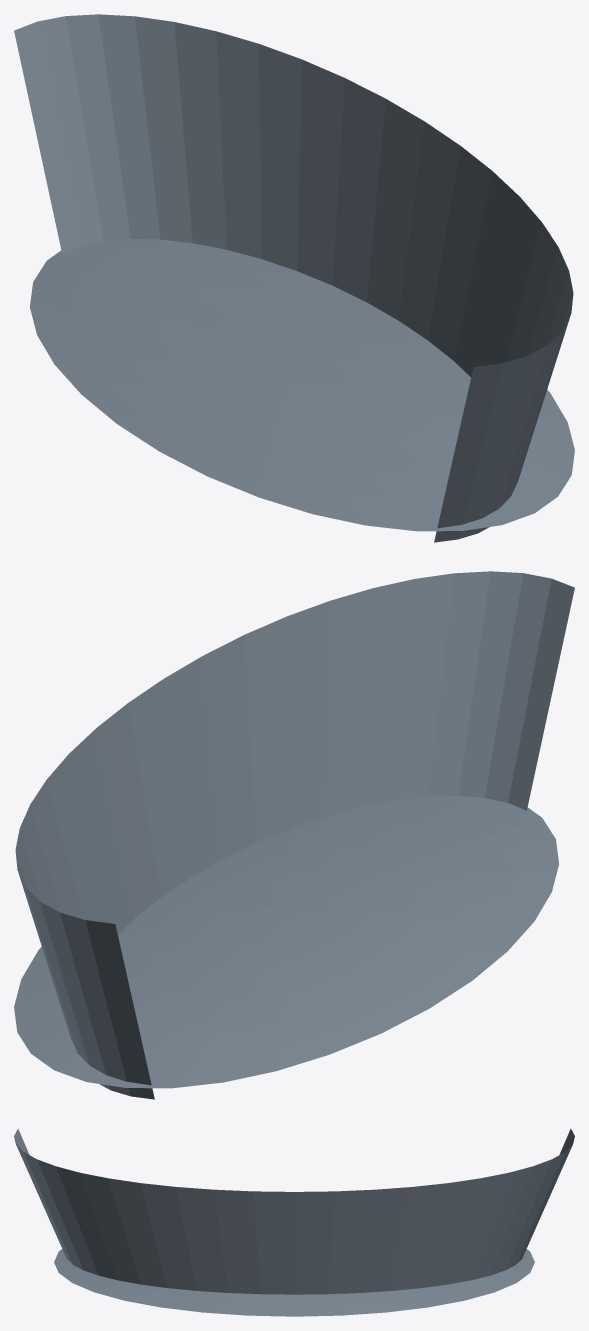
File: SM_Env_S_WaterfallFoam.fbx
The picture shows the model from 3 angles, top to bottom: view 1: azimuth 30°, elevation 25°; view 2: azimuth 150°, elevation 25°; view 3: azimuth 270°, elevation 25°; orthographic projection. The views are drawn at different scales.
Parts seen in each view (by area): view 1: SM_Env_S_WaterfallFoam; view 2: SM_Env_S_WaterfallFoam; view 3: SM_Env_S_WaterfallFoam.
Part boxes in pixels (box(x1,y1,x2,y2)): SM_Env_S_WaterfallFoam: box(14, 14, 574, 542); SM_Env_S_WaterfallFoam: box(14, 571, 574, 1099); SM_Env_S_WaterfallFoam: box(14, 1128, 574, 1316).
Size of the model in its own units: 140 by 305 by 76.
